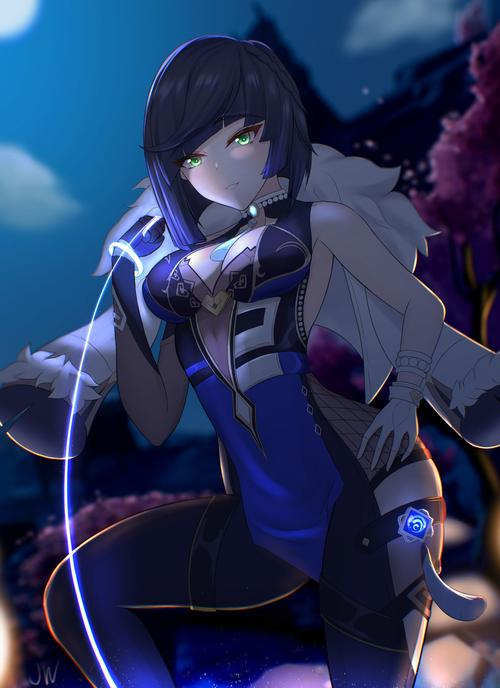夜兰: (38, 36, 448, 688)
